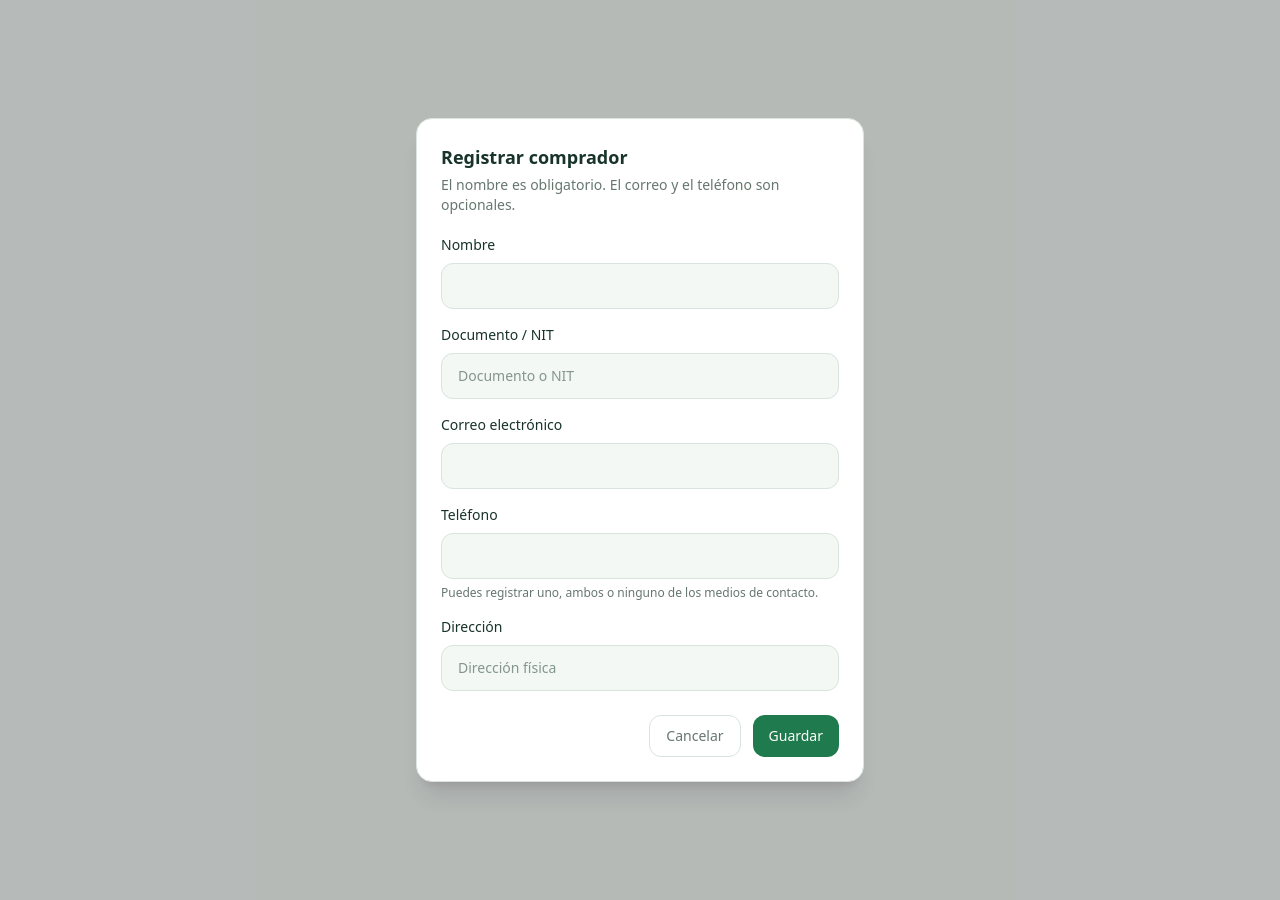
BuyerFormModal Component - Gestión de Compradores y Accesibilidad › 2. Bloquea el envío y muestra alertas de error visuales cuando los campos requeridos están vacíos
The width and height of the screenshot is (1280, 900).
Click the button "Guardar" at (796, 736), box [752,715,839,757]
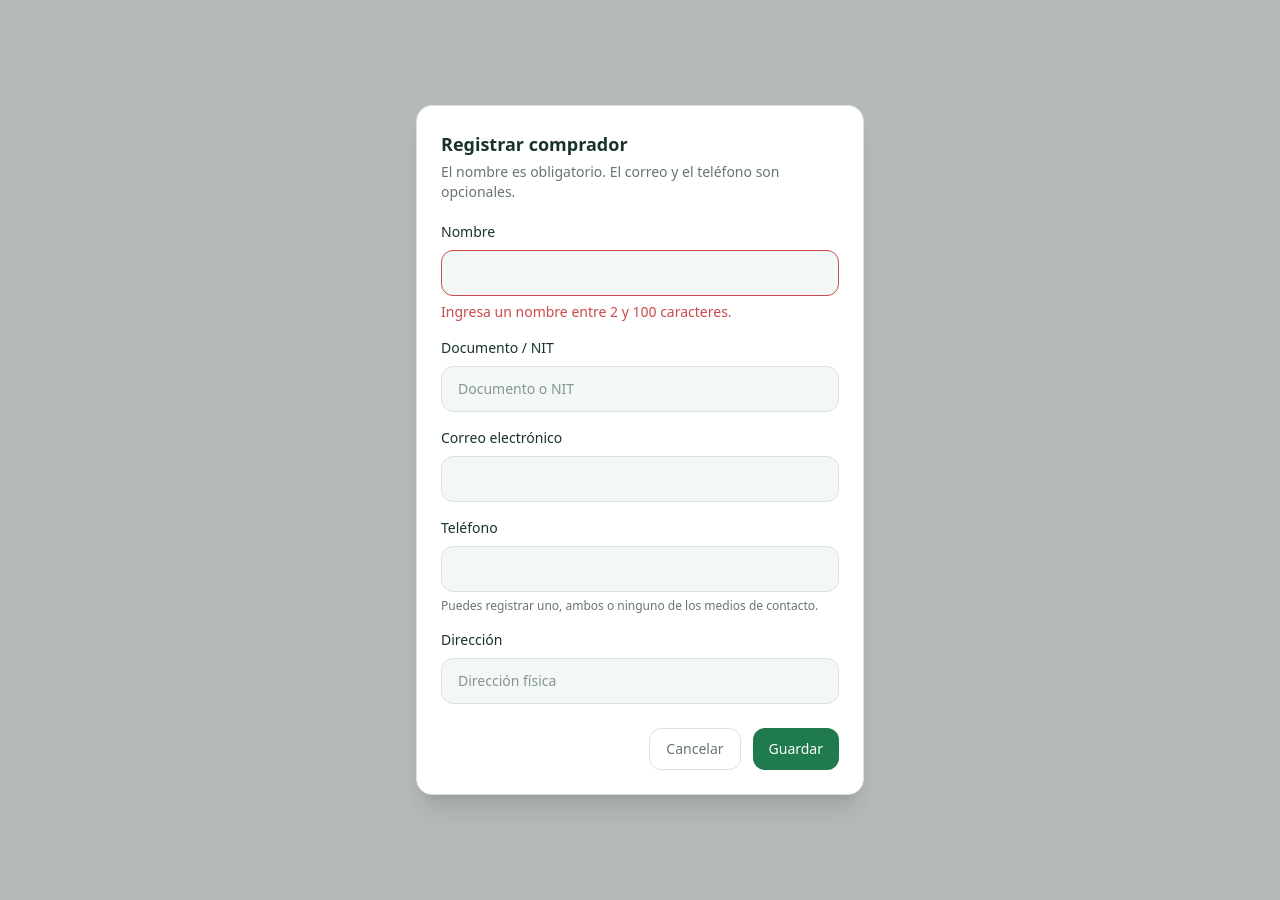
expect the message "Ingresa un nombre entre 2 y 100 caracteres." is shown: met, box [441,302,732,321]
